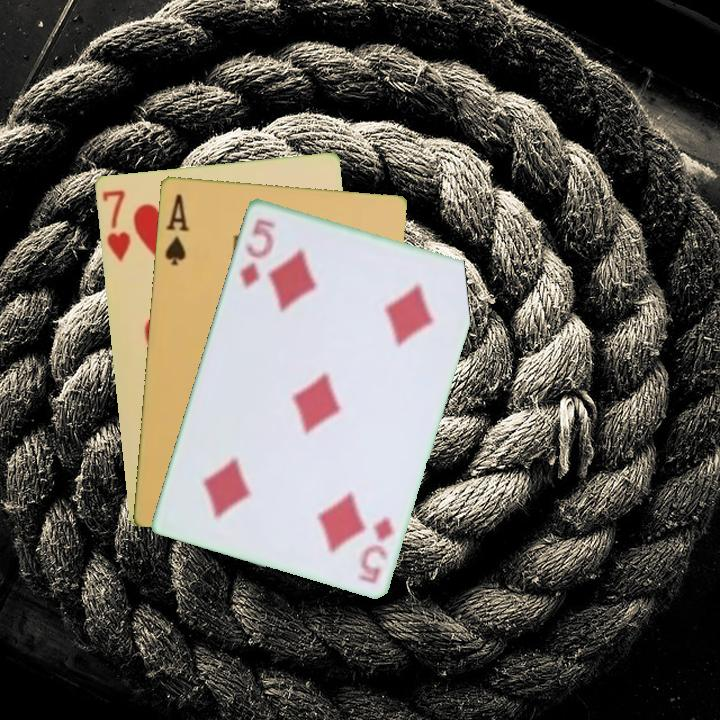5d: (236, 214, 278, 292), (355, 513, 396, 586)
7h: (98, 186, 133, 264)
As: (161, 189, 192, 268)
